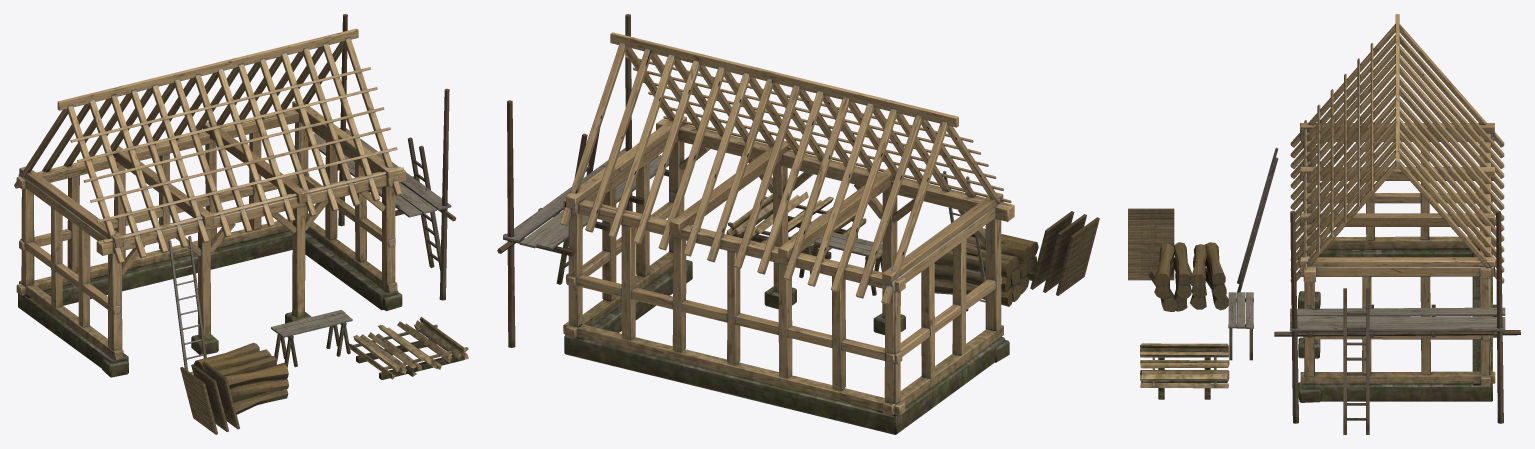
File: fletcher_build2.glb
The picture shows the model from 3 angles, left to right: view 1: azimuth 30°, elevation 25°; view 2: azimuth 150°, elevation 25°; view 3: azimuth 270°, elevation 25°; orthographic projection. The views are drawn at different scales.
Parts seen in each view (by area): view 1: fletcher_build2_LOD0; view 2: fletcher_build2_LOD0; view 3: fletcher_build2_LOD0.
Boxes of the visible parts, left/top/right/bottom form: fletcher_build2_LOD0: left=14, top=14, right=468, bottom=434; fletcher_build2_LOD0: left=497, top=14, right=1099, bottom=434; fletcher_build2_LOD0: left=1128, top=14, right=1520, bottom=434.
Size of what is drawn, in the model's own units: 8.25 by 5.25 by 7.65.
Materials: 1 (1 with a texture image).
